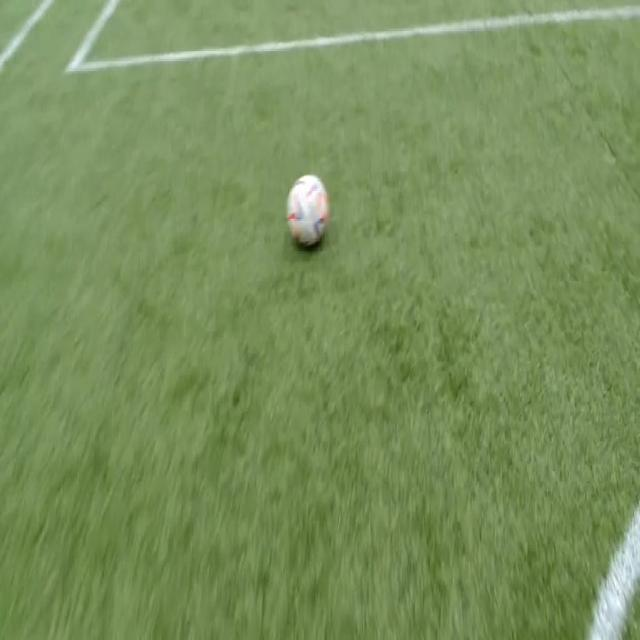ball: (288, 173, 328, 249)
